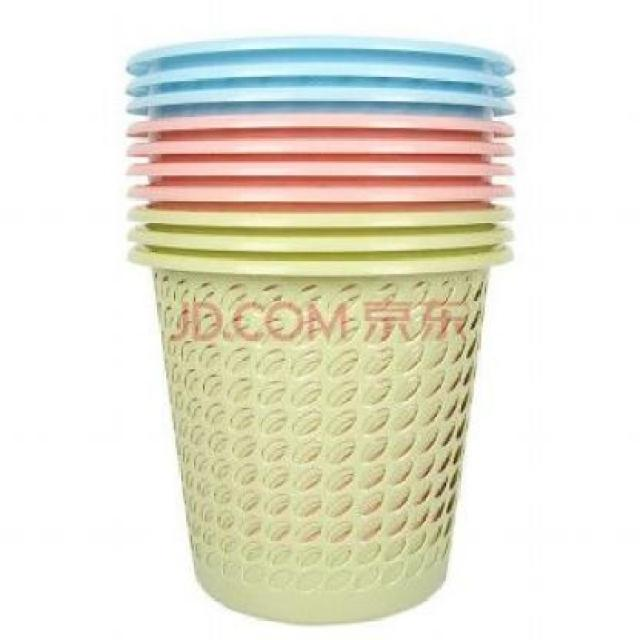dustbin: (120, 28, 522, 634)
